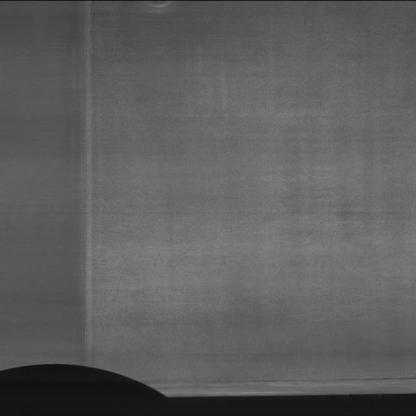welding_line: (74, 0, 105, 376)
